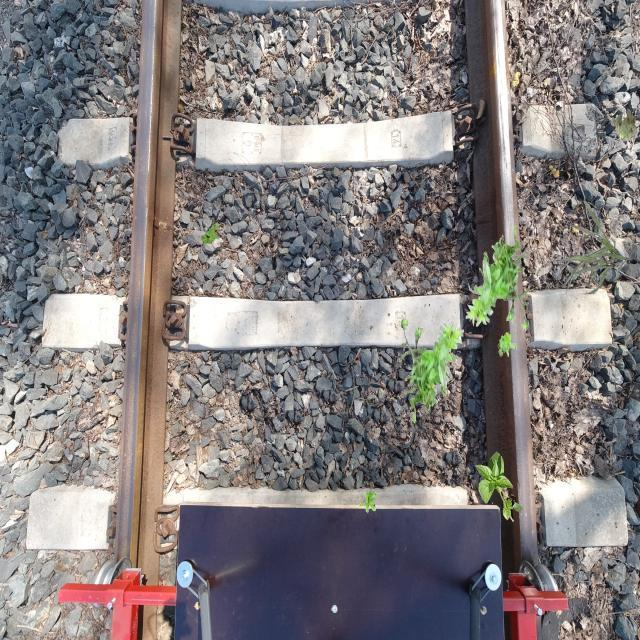Plant: (400, 316, 464, 424), (466, 225, 530, 332), (556, 201, 629, 294), (475, 451, 523, 522), (612, 110, 638, 142), (498, 332, 518, 357), (201, 222, 220, 247), (359, 490, 376, 514)
